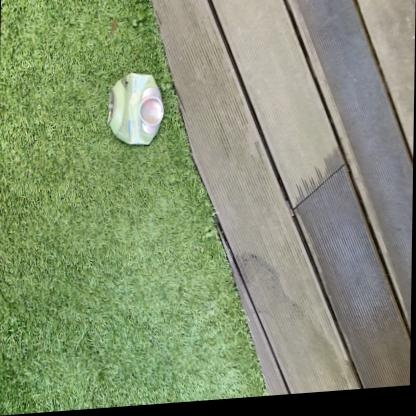trash: (108, 73, 163, 144)
